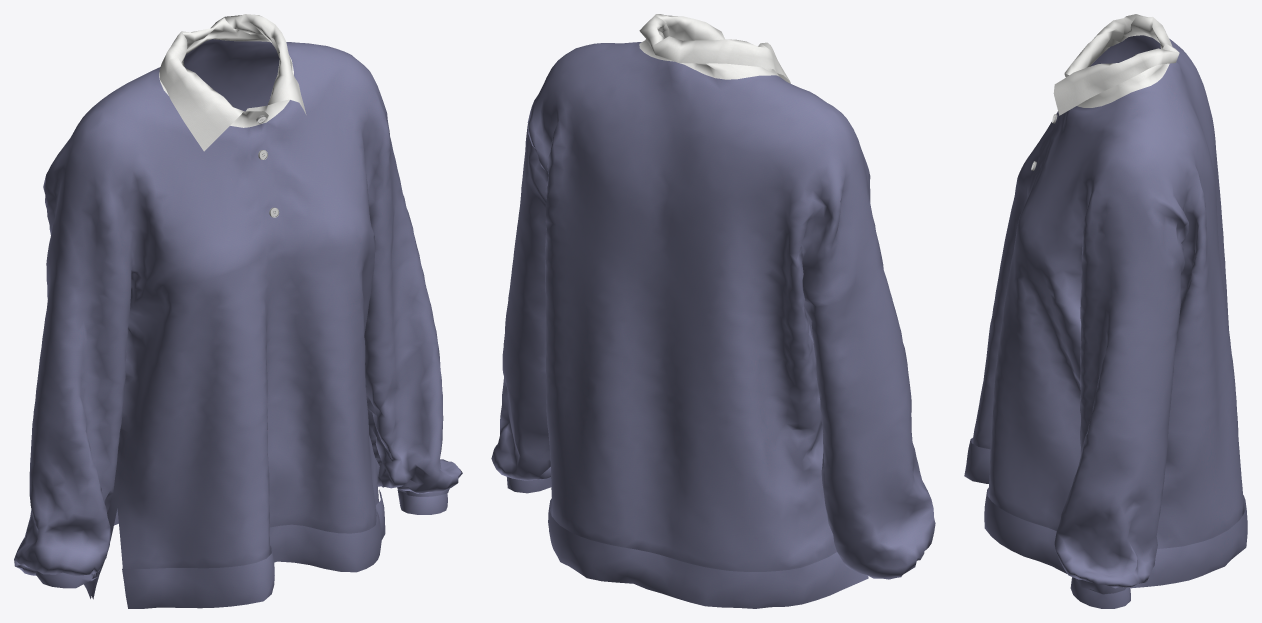
3 views of the same model, side by side, from view 1: azimuth 30°, elevation 25°; view 2: azimuth 150°, elevation 25°; view 3: azimuth 270°, elevation 25° (orthographic). The views are drawn at different scales.
Parts seen in each view (by area): view 1: Pattern2D_3346071, Pattern2D_3477746, Pattern2D_3483599, Pattern2D_3445324, Pattern2D_614027, Pattern2D_3442182, Pattern2D_420041, Pattern2D_3424674, Pattern2D_3459562, Pattern2D_420022, Pattern2D_420052, Pattern2D_420074 (+18 smaller); view 2: Pattern2D_3459562, Pattern2D_3462828, Pattern2D_3445324, Pattern2D_614552 (×2), Pattern2D_430427, Pattern2D_501064, Pattern2D_430405, Pattern2D_501049, Pattern2D_3424674, Pattern2D_430416, Pattern2D_3442182, Pattern2D_363371 (+13 smaller); view 3: Pattern2D_3459562, Pattern2D_3442182, Pattern2D_3346071, Pattern2D_3483599, Pattern2D_3420210, Pattern2D_3462828, Pattern2D_614027, Pattern2D_614552, Pattern2D_533716, Pattern2D_325179, Pattern2D_365664, Pattern2D_340886 (+17 smaller).
Part boxes in pixels (x1,y1,x2,y2): Pattern2D_3346071: (117,386,379,567); Pattern2D_3477746: (79,82,267,290); Pattern2D_3483599: (266,50,389,249); Pattern2D_3445324: (14,419,119,575); Pattern2D_614027: (122,489,385,608); Pattern2D_3442182: (365,332,462,493); Pattern2D_420041: (126,265,374,352); Pattern2D_3424674: (43,169,131,300); Pattern2D_3459562: (46,39,371,174); Pattern2D_420022: (129,236,375,316); Pattern2D_420052: (125,297,370,382); Pattern2D_420074: (121,359,365,435); Pattern2D_3459562: (527,42,860,309); Pattern2D_3462828: (546,374,836,570); Pattern2D_3445324: (821,399,935,579); Pattern2D_614552 (×2): (548,498,868,608); Pattern2D_430427: (546,342,821,439); Pattern2D_501064: (545,260,813,361); Pattern2D_430405: (545,288,816,386); Pattern2D_501049: (545,236,808,334); Pattern2D_3424674: (802,159,883,306); Pattern2D_430416: (545,317,819,407); Pattern2D_3442182: (491,325,550,480); Pattern2D_363371: (817,343,907,412); Pattern2D_3459562: (1124,35,1221,290); Pattern2D_3442182: (1054,422,1168,588); Pattern2D_3346071: (973,318,1080,529); Pattern2D_3483599: (1017,92,1131,280); Pattern2D_3420210: (1080,196,1185,308); Pattern2D_3462828: (1156,385,1243,547); Pattern2D_614027: (964,438,1066,573); Pattern2D_614552: (1131,495,1247,588); Pattern2D_533716: (1053,42,1179,115); Pattern2D_325179: (1080,294,1180,338); Pattern2D_365664: (1079,370,1172,416); Pattern2D_340886: (1080,323,1177,366).
Size of the model in its own units: 58.53 by 68.95 by 35.49.
